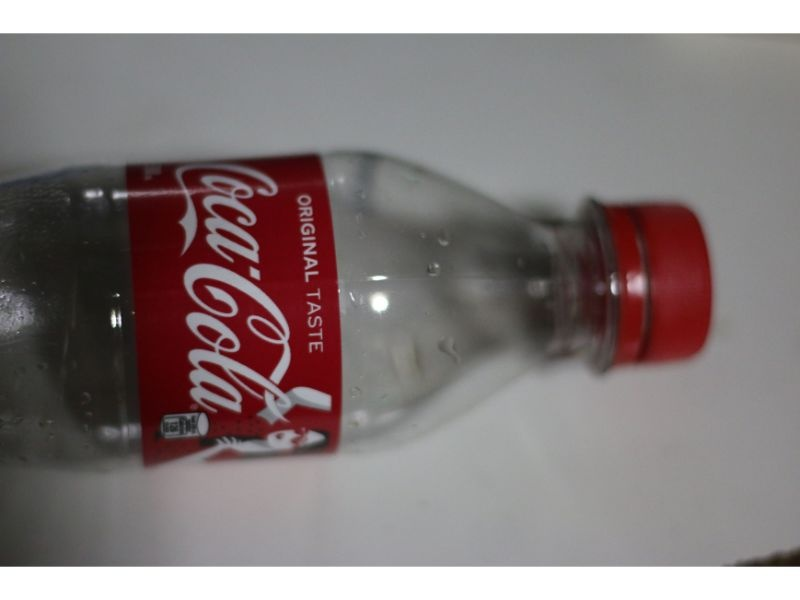PET #1: (2, 142, 715, 479)
